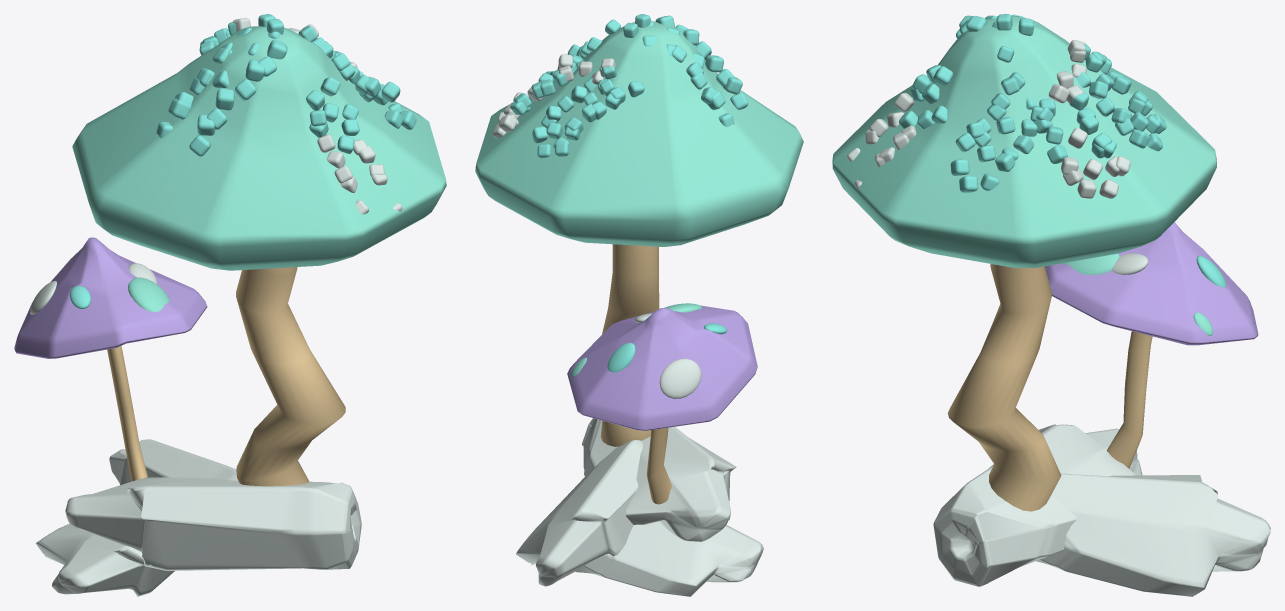
File: Mush6.fbx
The picture shows the model from 3 angles, left to right: view 1: azimuth 30°, elevation 25°; view 2: azimuth 150°, elevation 25°; view 3: azimuth 270°, elevation 25°; orthographic projection. The views are drawn at different scales.
Visible parts, largest first — view 1: group55; view 2: group55; view 3: group55.
Boxes of the visible parts, bbox=[...] form: group55: bbox=[14, 14, 446, 596]; group55: bbox=[475, 14, 803, 596]; group55: bbox=[832, 14, 1270, 596].
Size of the model in its own units: 0.3541 by 0.5769 by 0.3987.
